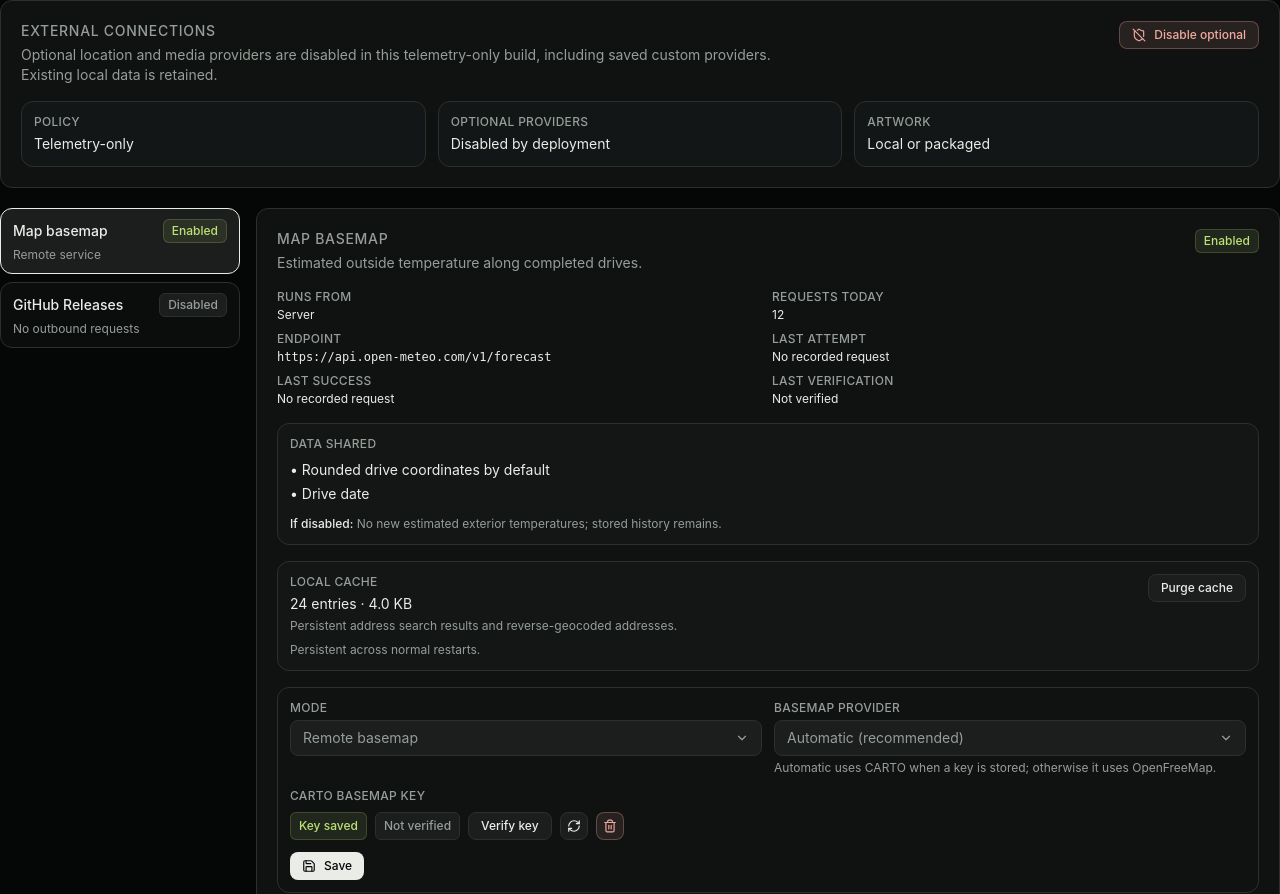
Scenario: ExternalConnectionsSection › lets administrators pin OpenFreeMap without exposing CARTO key controls
The width and height of the screenshot is (1280, 894).
Click the button with aria-label "Basemap provider": coordinates (875, 738) x1=774 y1=720 x2=1246 y2=756
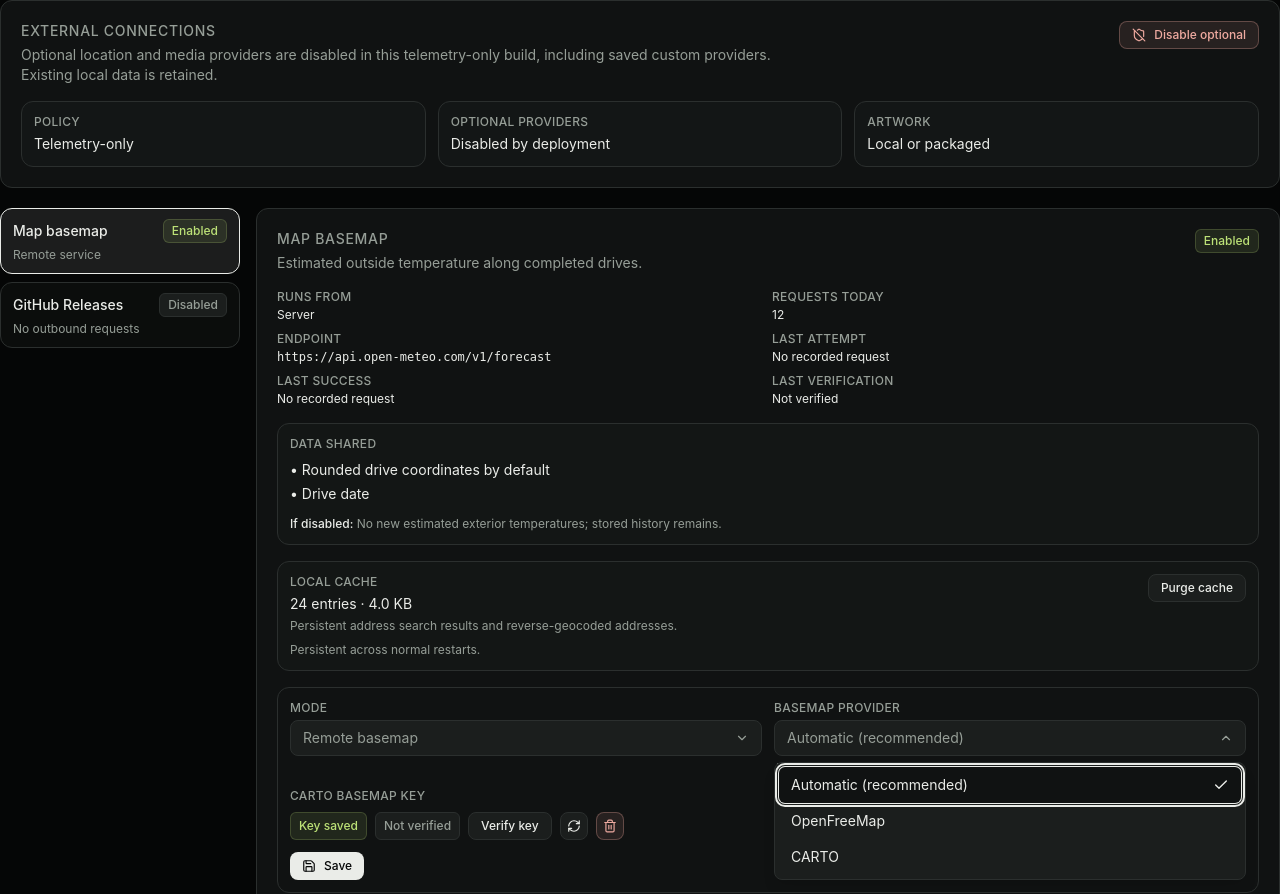
Now the option "Automatic (recommended)" is shown, box x1=779 y1=767 x2=1241 y2=803
Click the option "OpenFreeMap": coordinates (838, 820) x1=779 y1=803 x2=1241 y2=839
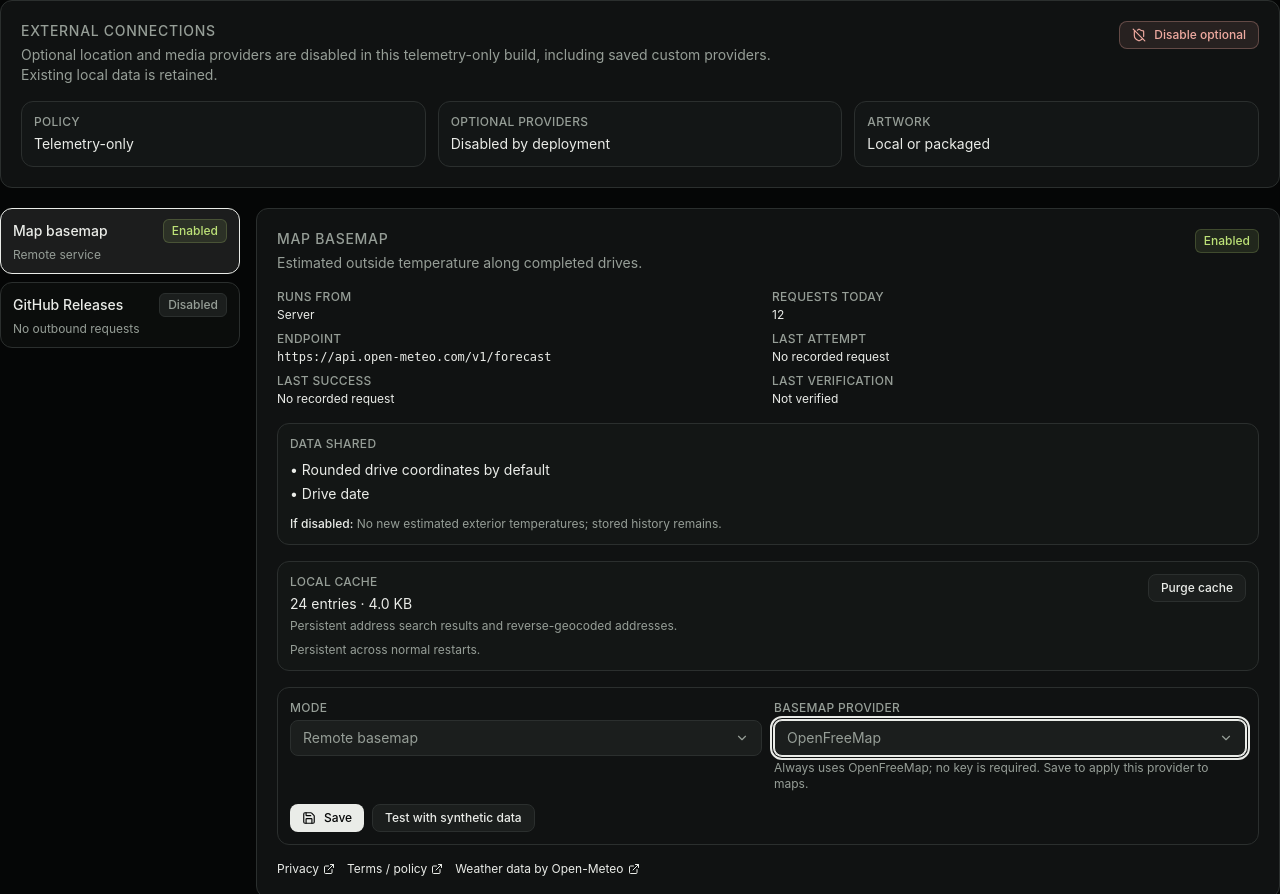
Now the text labelled "CARTO Basemap key" is gone
Now the text "Save to apply this provider to maps" is shown, box x1=774 y1=760 x2=1209 y2=791
Click the button "Test with synthetic data": coordinates (453, 818) x1=372 y1=804 x2=535 y2=832
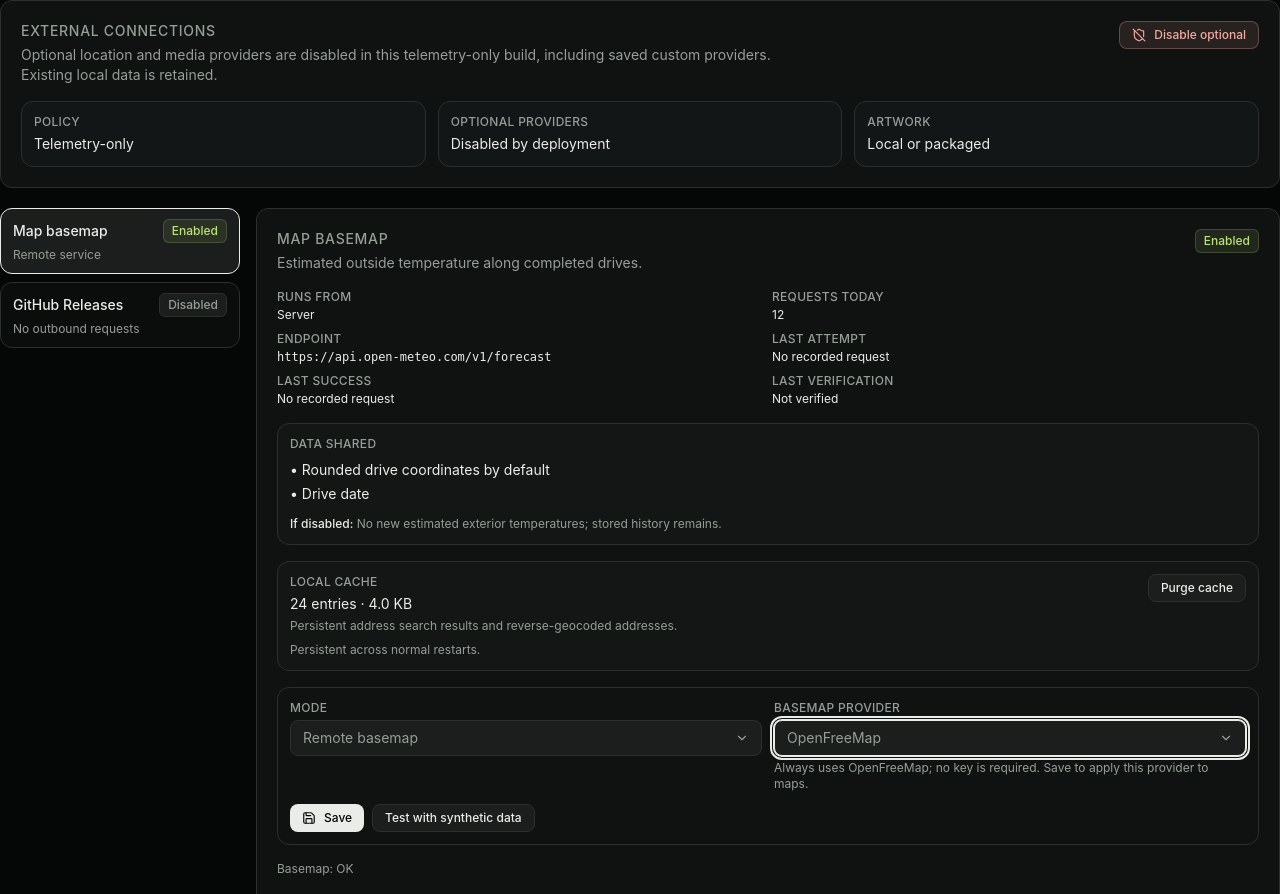
Click the button "Save": coordinates (327, 818) x1=290 y1=804 x2=364 y2=832
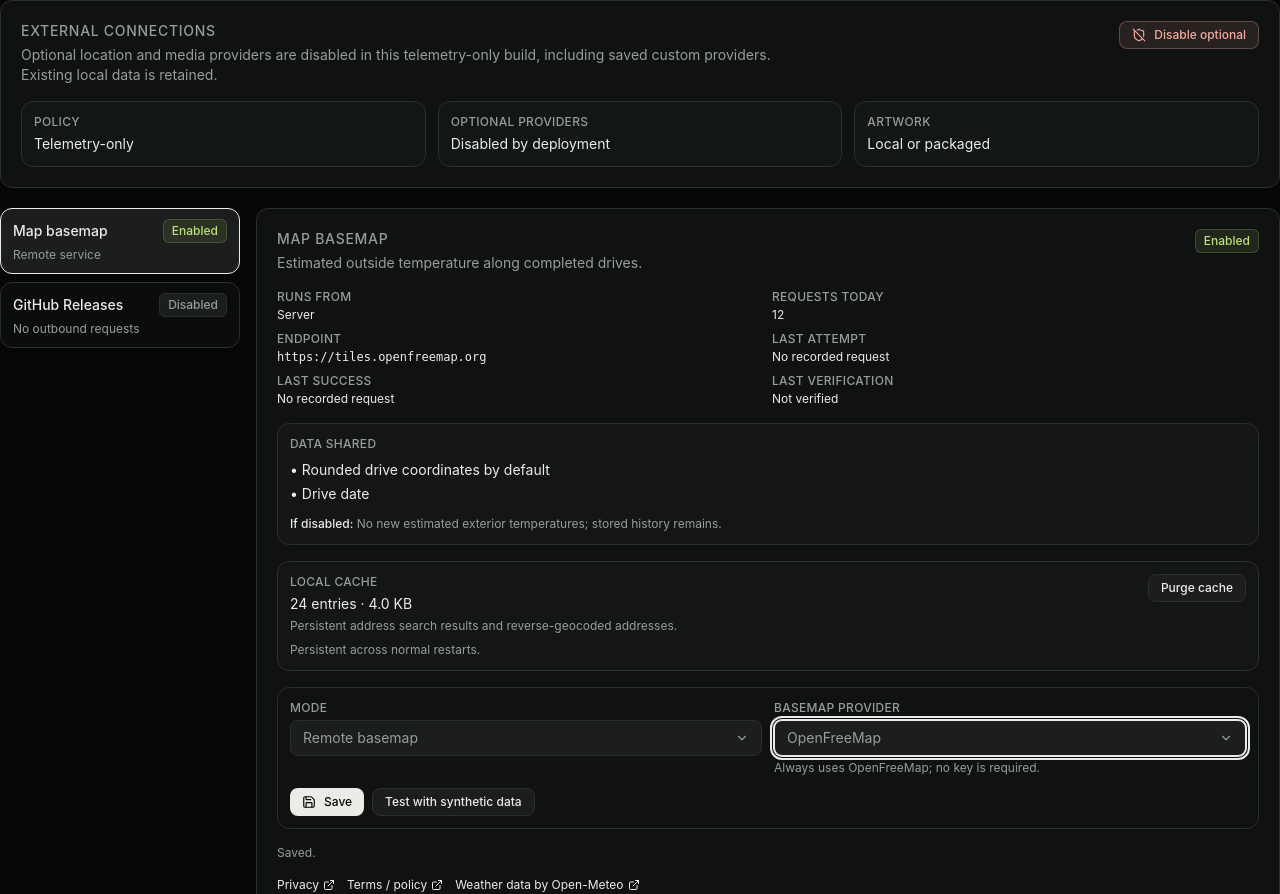
Now the text "Save to apply this provider to maps" is gone
